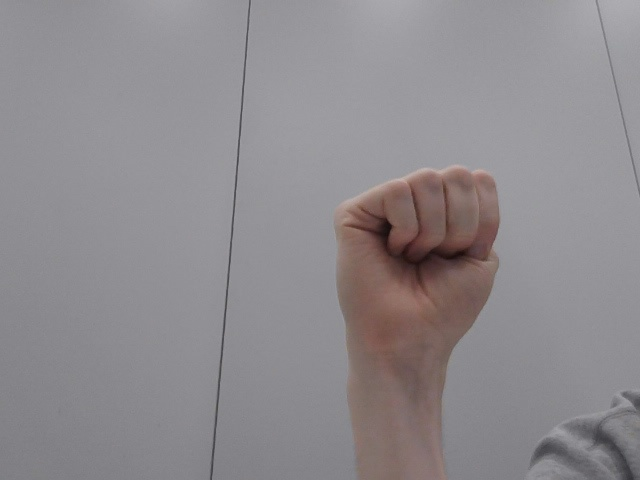down: (312, 155, 533, 367)
